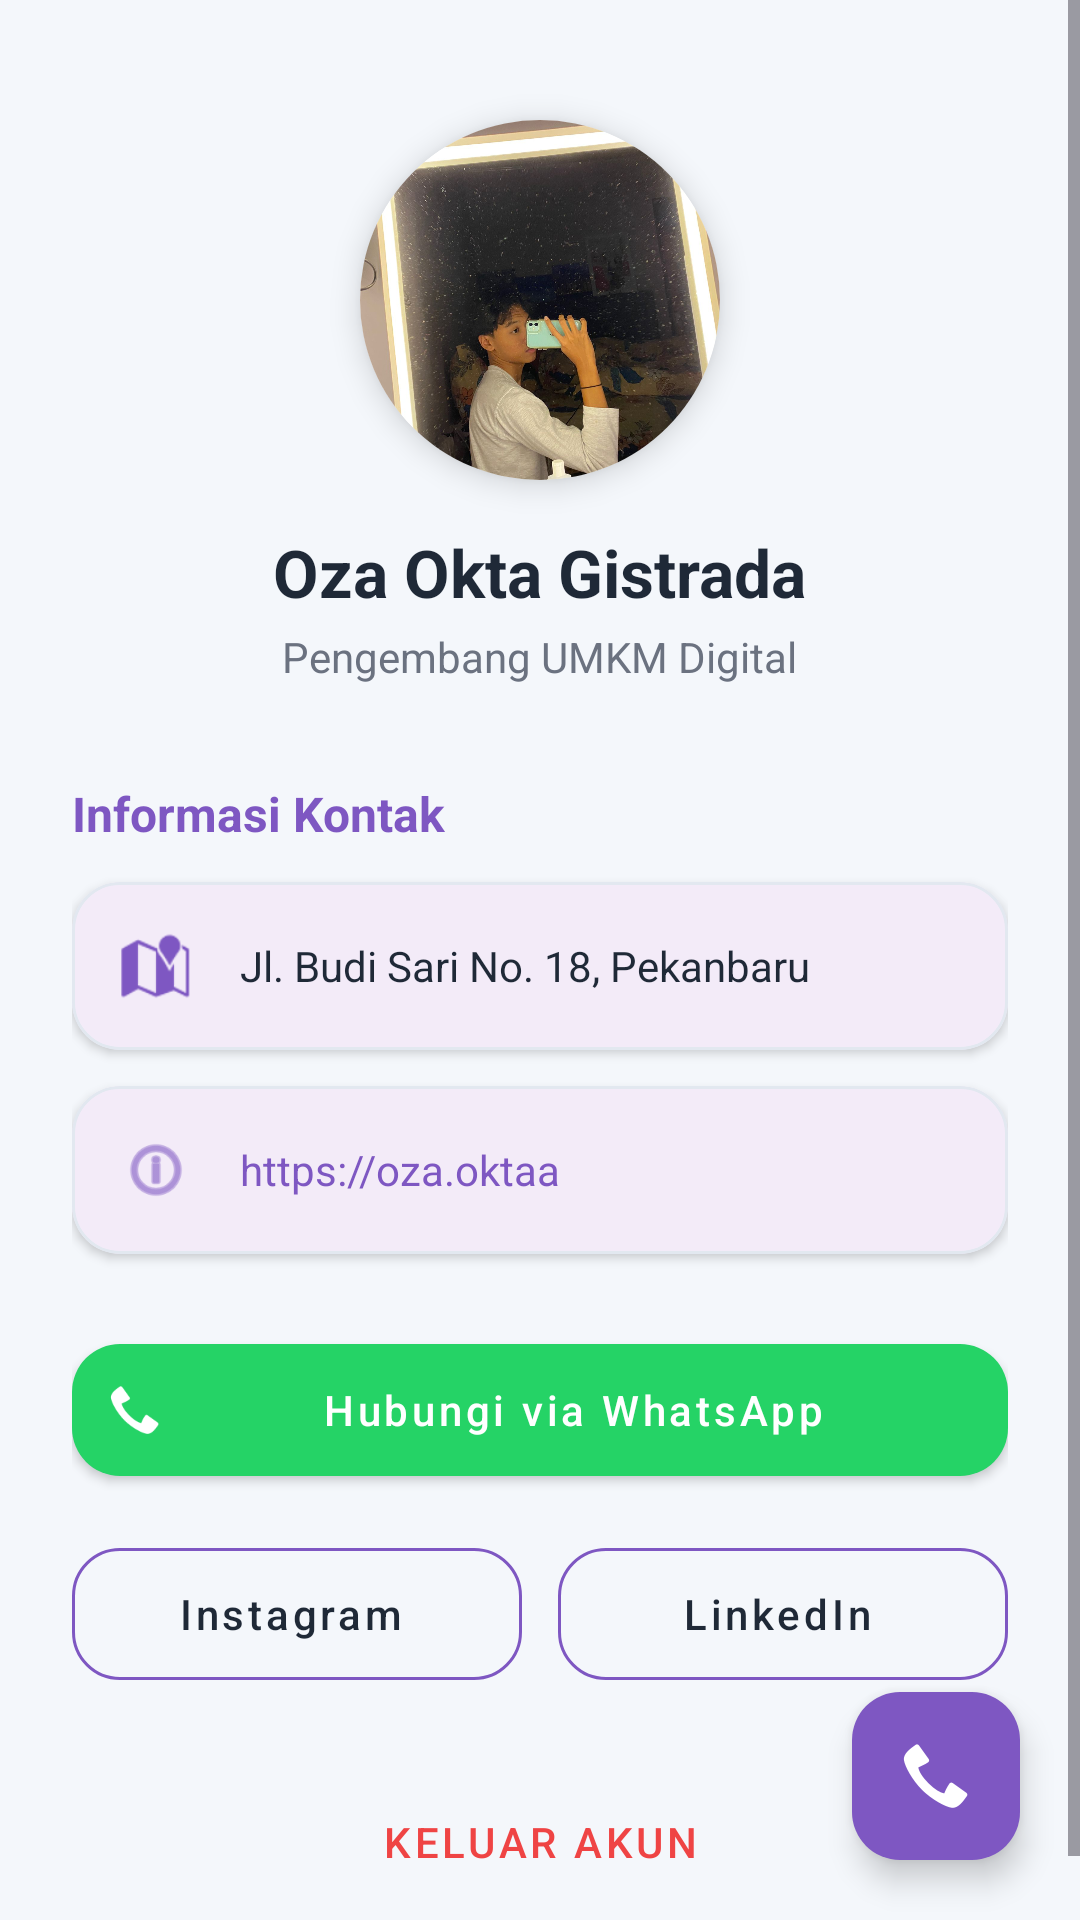

Point at icon controls on the screen. Image size 1080 × 1920, points as (x=x, y=y).
info details: (x=156, y=1170)
map: (x=155, y=966)
Profile Picture: (x=540, y=300)
